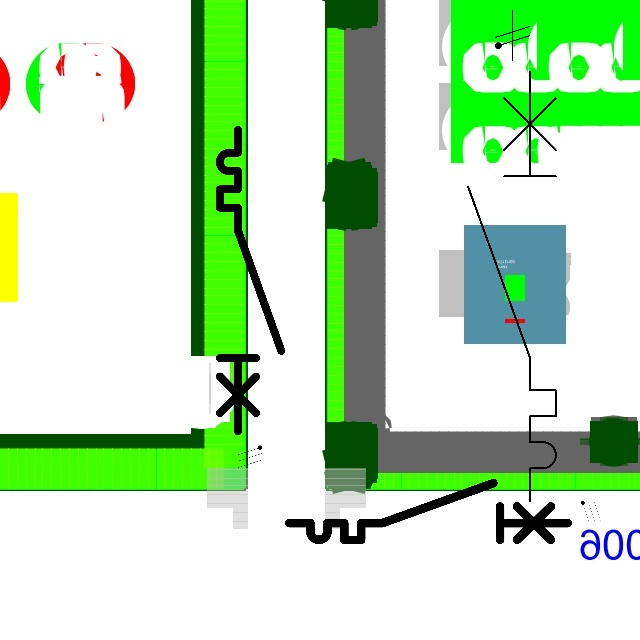interruptor_termomagnetico: (457, 61, 567, 512), (212, 122, 289, 439), (282, 476, 575, 547)
